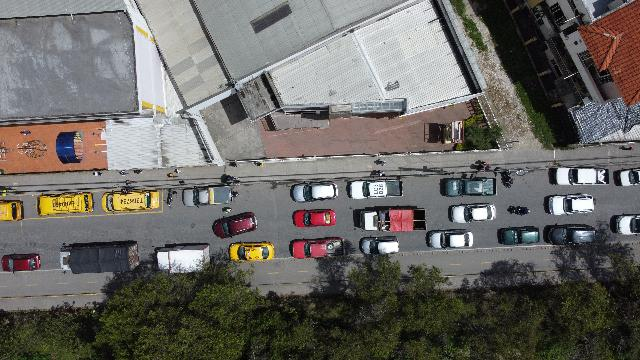Vehiculo: (36, 192, 94, 216), (101, 189, 160, 212), (212, 212, 258, 238), (290, 237, 344, 259), (182, 185, 234, 206), (543, 224, 597, 244), (347, 180, 403, 198), (554, 167, 608, 185), (290, 182, 338, 202), (425, 229, 473, 249), (548, 194, 596, 214), (448, 203, 496, 223), (444, 178, 496, 196), (228, 242, 274, 262), (359, 236, 399, 256), (292, 209, 336, 227), (497, 226, 539, 244), (2, 254, 40, 272), (610, 213, 640, 235), (614, 168, 640, 186)
